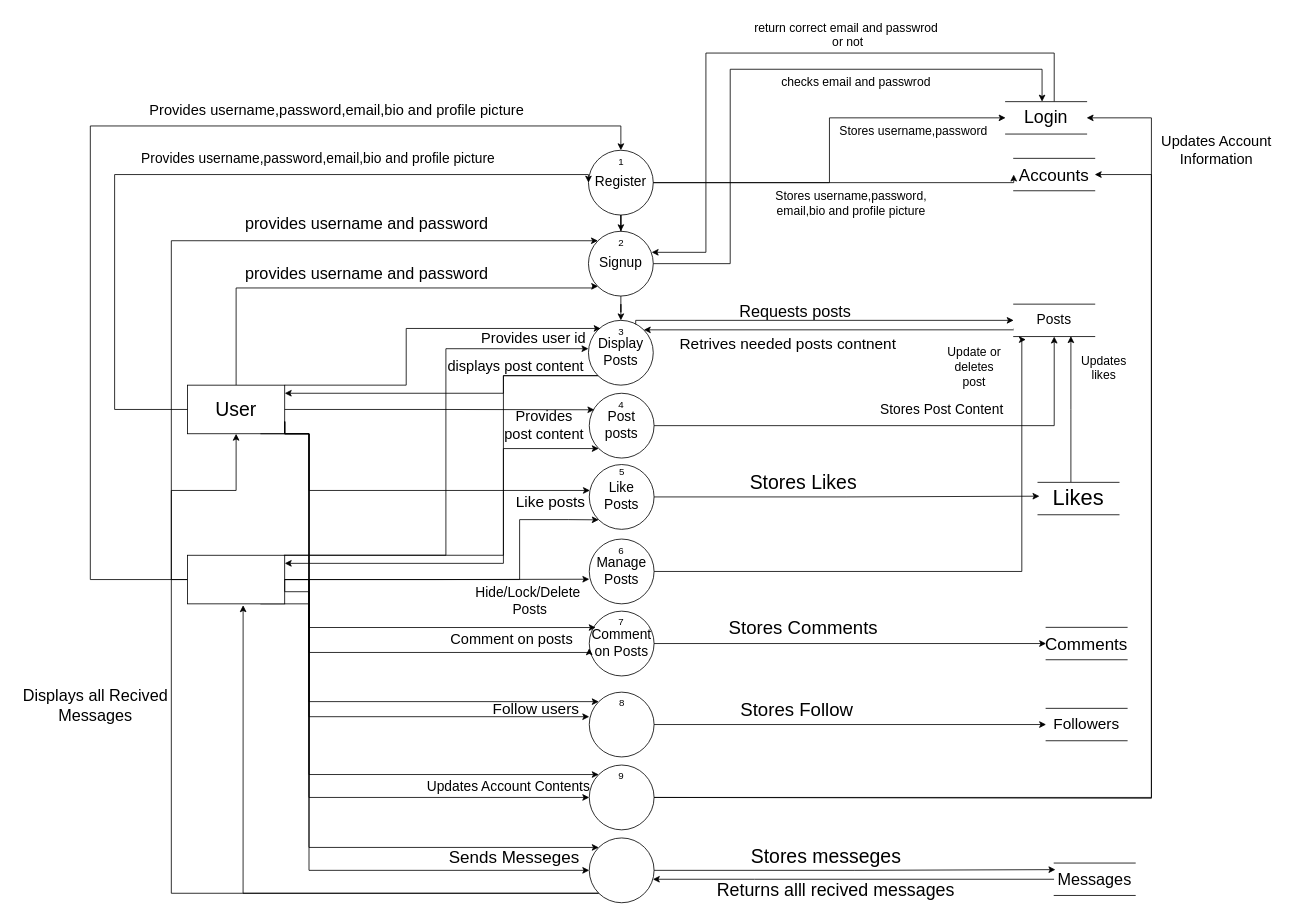
The diagram is 1294 pixels wide and 920 high, and some of its shapes have lost their labels. Here are the shapes that lost their labels. From the top down, the box of each, then its label:
(187, 554, 285, 604): Modderator
(588, 691, 654, 757): Add followers
(588, 764, 654, 830): Manage Accounts
(588, 837, 654, 903): Manage Messeges
